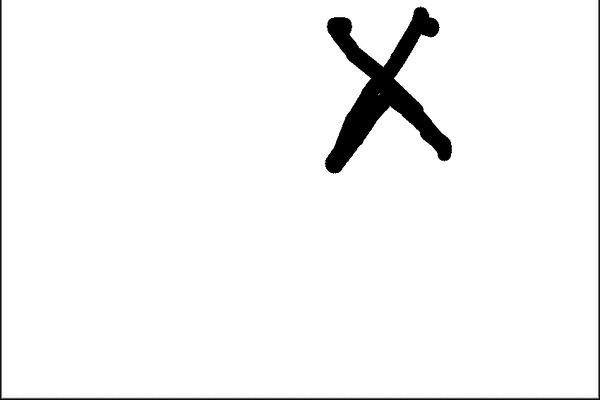X: (306, 3, 465, 180)
